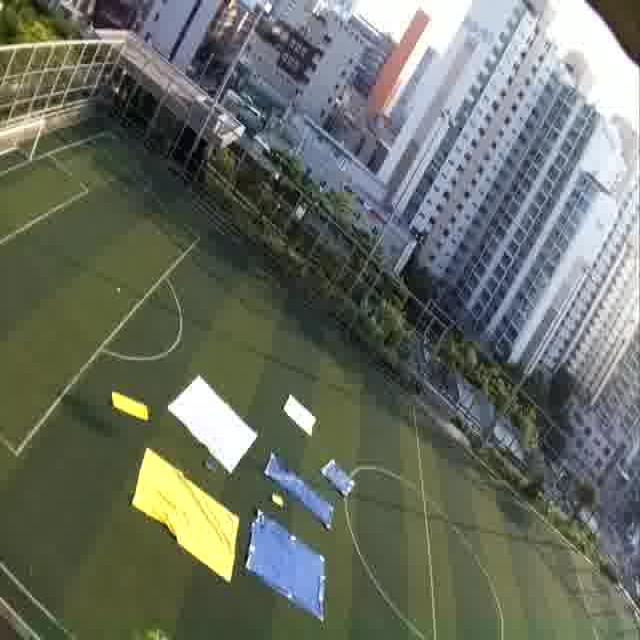danger: (254, 537, 329, 601), (267, 460, 303, 494), (325, 462, 356, 499)
safety: (178, 390, 250, 448), (280, 390, 321, 440)
warning: (146, 479, 227, 554), (112, 391, 148, 423)
